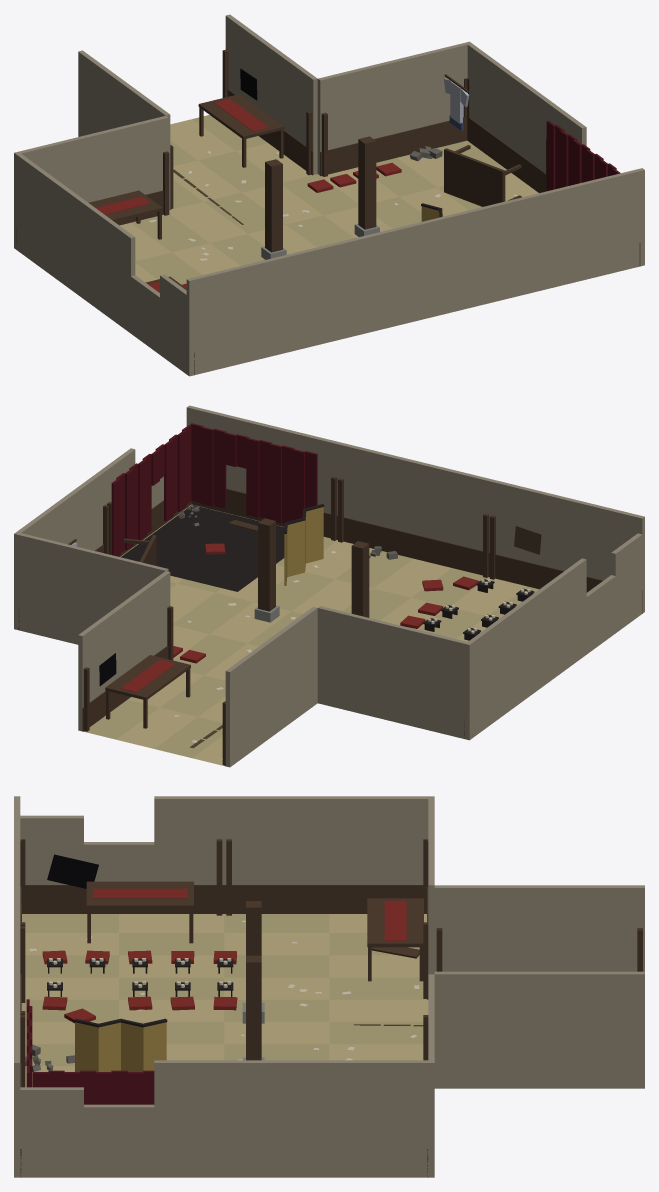
The picture shows the model from 3 angles, top to bottom: view 1: azimuth 30°, elevation 25°; view 2: azimuth 150°, elevation 25°; view 3: azimuth 270°, elevation 25°; orthographic projection. The views are drawn at different scales.
Parts seen in each view (by area): view 1: -O_A, -O_A_Deco; view 2: -O_A, -O_A_Deco; view 3: -O_A, -O_A_Deco.
Boxes of the visible parts, x1,y1,x2,y2 form: -O_A: (14,14,644,376); -O_A_Deco: (16,49,640,375); -O_A: (14,405,644,767); -O_A_Deco: (18,423,642,766); -O_A: (14,796,644,1177); -O_A_Deco: (20,839,642,1177).
Size of the model in its own units: 2 by 2 by 0.4031.
